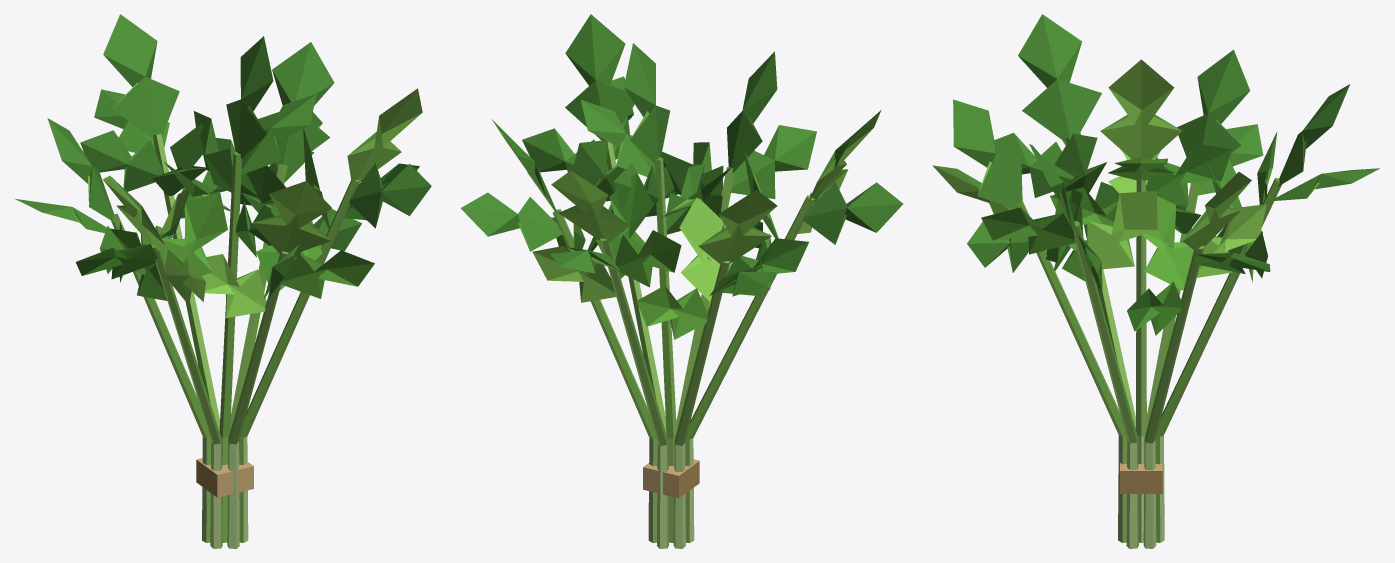
File: FMS_Veg_Greens.fbx
3 views of the same model, side by side, from view 1: azimuth 30°, elevation 25°; view 2: azimuth 150°, elevation 25°; view 3: azimuth 270°, elevation 25° (orthographic). The views are drawn at different scales.
Parts seen in each view (by area): view 1: item_produce_greens; view 2: item_produce_greens; view 3: item_produce_greens.
Part boxes in pixels (x1,y1,x2,y2): item_produce_greens: (14, 14, 431, 548); item_produce_greens: (460, 14, 903, 548); item_produce_greens: (932, 14, 1379, 548).
Bounding box in the file's own units: 0.1675 × 0.2167 × 0.1762.
Materials: 1 (1 with a texture image).
